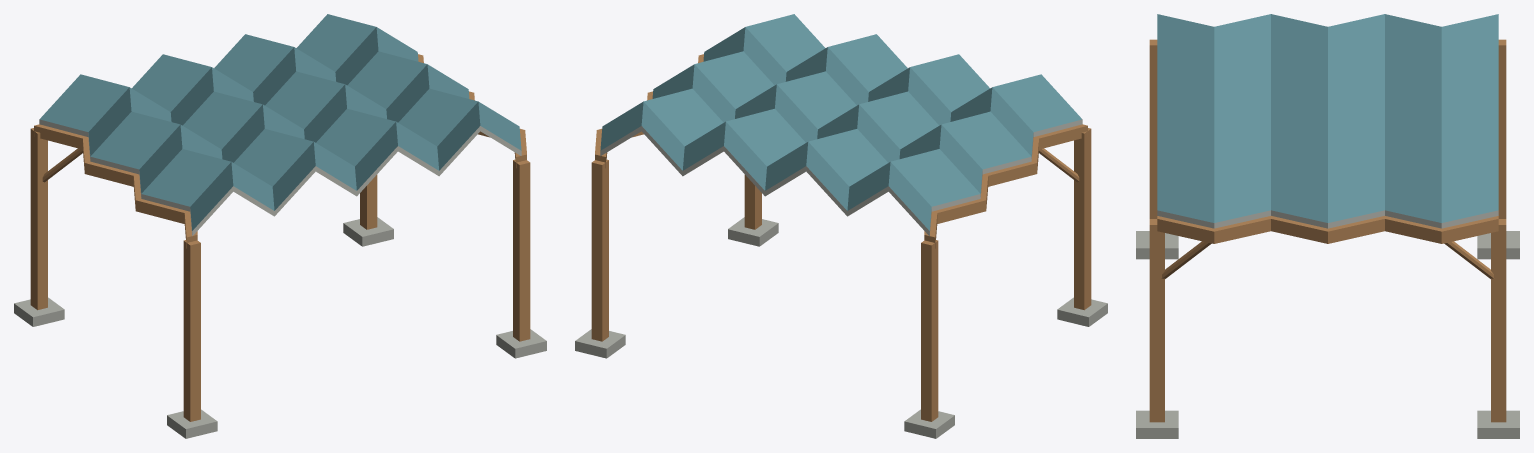
3 views of the same model, side by side, from view 1: azimuth 30°, elevation 25°; view 2: azimuth 150°, elevation 25°; view 3: azimuth 270°, elevation 25° (orthographic). The views are drawn at different scales.
Parts seen in each view (by area): view 1: WholeBiaxialChevronFoldedPlate, WholeFullHeightPierRightFront, WholeFullHeightPierLeftFront, WholeFullHeightPierLeftRear, WholeZigzagEdgeGirderLeft, WholeBroadGroundFootRightRear, WholeBroadGroundFootLeftRear, WholeBroadGroundFootRightFront, WholeBroadGroundFootLeftFront, WholeFullHeightPierRightRear; view 2: WholeBiaxialChevronFoldedPlate, WholeFullHeightPierRightRear, WholeFullHeightPierLeftRear, WholeFullHeightPierLeftFront, WholeZigzagEdgeGirderLeft, WholeBroadGroundFootRightFront, WholeBroadGroundFootLeftFront, WholeBroadGroundFootRightRear, WholeBroadGroundFootLeftRear, WholeFullHeightPierRightFront; view 3: WholeBiaxialChevronFoldedPlate, WholeZigzagEdgeGirderRight, WholeFullHeightPierRightFront, WholeFullHeightPierRightRear, WholeFullHeightPierLeftFront, WholeFullHeightPierLeftRear, WholeBroadGroundFootRightFront, WholeBroadGroundFootRightRear, WholeBroadGroundFootLeftFront, WholeBroadGroundFootLeftRear, WholeLongitudinalKneeBraceRightFront, WholeLongitudinalKneeBraceRightRear.
Boxes of the visible parts, x1,y1,x2,y2 form: WholeBiaxialChevronFoldedPlate: (39, 14, 521, 235); WholeFullHeightPierRightFront: (513, 159, 530, 341); WholeFullHeightPierLeftFront: (183, 240, 200, 421); WholeFullHeightPierLeftRear: (30, 128, 47, 310); WholeZigzagEdgeGirderLeft: (34, 124, 197, 248); WholeBroadGroundFootRightRear: (343, 217, 393, 246); WholeBroadGroundFootLeftRear: (14, 297, 64, 326); WholeBroadGroundFootRightFront: (496, 329, 546, 358); WholeBroadGroundFootLeftFront: (167, 409, 217, 438); WholeFullHeightPierRightRear: (360, 174, 377, 229); WholeBiaxialChevronFoldedPlate: (600, 14, 1082, 235); WholeFullHeightPierRightRear: (591, 159, 608, 341); WholeFullHeightPierLeftRear: (921, 240, 938, 421); WholeFullHeightPierLeftFront: (1074, 128, 1091, 310); WholeZigzagEdgeGirderLeft: (924, 124, 1087, 248); WholeBroadGroundFootRightFront: (728, 217, 778, 246); WholeBroadGroundFootLeftFront: (1057, 297, 1107, 326); WholeBroadGroundFootRightRear: (575, 329, 625, 358); WholeBroadGroundFootLeftRear: (904, 409, 954, 438); WholeFullHeightPierRightFront: (744, 174, 761, 229); WholeBiaxialChevronFoldedPlate: (1157, 14, 1498, 228); WholeZigzagEdgeGirderRight: (1157, 216, 1498, 243); WholeFullHeightPierRightFront: (1149, 219, 1164, 422); WholeFullHeightPierRightRear: (1491, 219, 1506, 422); WholeFullHeightPierLeftFront: (1149, 39, 1157, 218); WholeFullHeightPierLeftRear: (1498, 39, 1506, 218); WholeBroadGroundFootRightFront: (1136, 410, 1178, 438); WholeBroadGroundFootRightRear: (1477, 410, 1519, 438); WholeBroadGroundFootLeftFront: (1136, 231, 1178, 259); WholeBroadGroundFootLeftRear: (1477, 231, 1519, 259); WholeLongitudinalKneeBraceRightFront: (1161, 241, 1211, 278); WholeLongitudinalKneeBraceRightRear: (1444, 241, 1494, 278).
Bounding box in the file's own units: 6.36 × 3.77 × 5.06.
